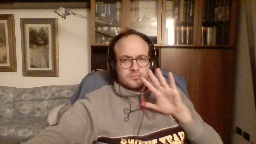Mano_aperta: (138, 67, 182, 116)
